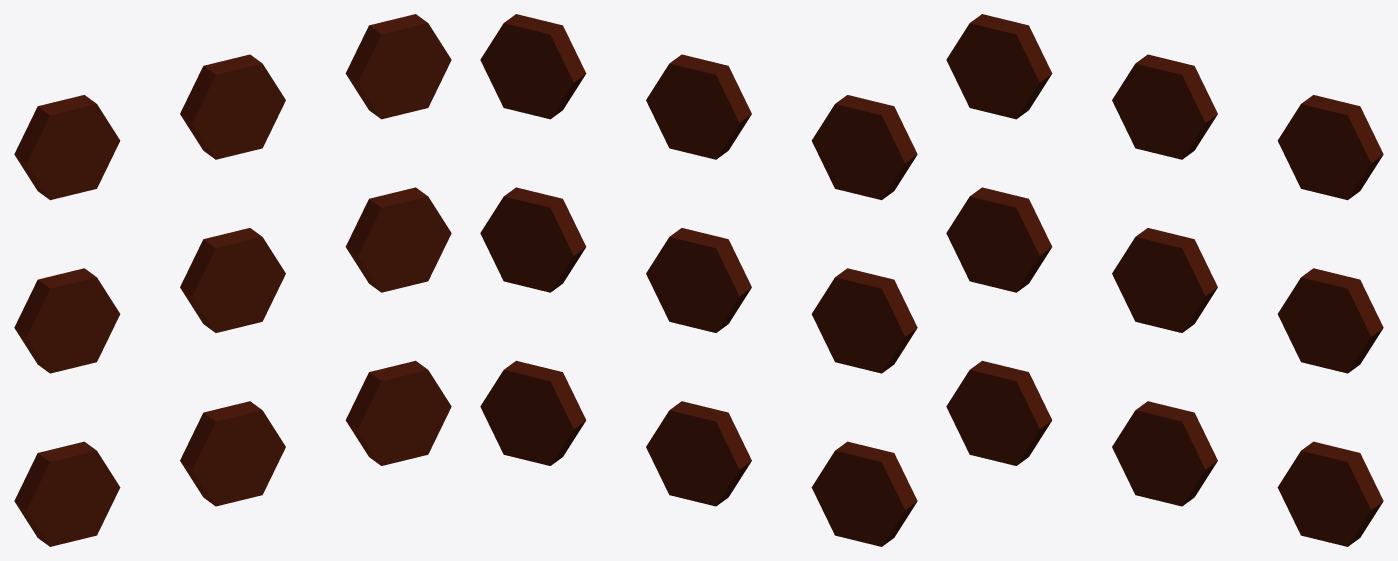
The model's file is burn_rack.glb.
3 renders of one model, left to right at view 1: azimuth 30°, elevation 25°; view 2: azimuth 150°, elevation 25°; view 3: azimuth 330°, elevation 25°, orthographic.
Visible parts, largest first — view 1: burn_shell, burn_shell.001, burn_shell.002, burn_shell.003, burn_shell.005, burn_shell.006, burn_shell.007, burn_shell.008, burn_shell.004; view 2: burn_shell, burn_shell.001, burn_shell.002, burn_shell.003, burn_shell.005, burn_shell.006, burn_shell.007, burn_shell.008, burn_shell.004; view 3: burn_shell, burn_shell.001, burn_shell.002, burn_shell.003, burn_shell.005, burn_shell.006, burn_shell.007, burn_shell.008, burn_shell.004.
Boxes of the visible parts, x1,y1,x2,y2 form: burn_shell: (14,441,120,546); burn_shell.001: (14,268,120,373); burn_shell.002: (14,95,120,200); burn_shell.003: (180,401,285,506); burn_shell.005: (180,54,285,159); burn_shell.006: (345,360,451,465); burn_shell.007: (345,187,451,292); burn_shell.008: (345,14,451,119); burn_shell.004: (180,228,285,332); burn_shell: (811,441,917,546); burn_shell.001: (811,268,917,373); burn_shell.002: (811,95,917,200); burn_shell.003: (646,401,751,506); burn_shell.005: (646,54,751,159); burn_shell.006: (480,360,586,465); burn_shell.007: (480,187,586,292); burn_shell.008: (480,14,586,119); burn_shell.004: (646,228,751,332); burn_shell: (946,360,1052,465); burn_shell.001: (946,187,1052,292); burn_shell.002: (946,14,1052,119); burn_shell.003: (1112,401,1217,506); burn_shell.005: (1112,54,1217,159); burn_shell.006: (1277,441,1383,546); burn_shell.007: (1277,268,1383,373); burn_shell.008: (1277,95,1383,200); burn_shell.004: (1112,228,1217,332).
Size of the model in its own units: 11.8 by 11.45 by 0.6.
Materials: 1 (1 with a texture image).
